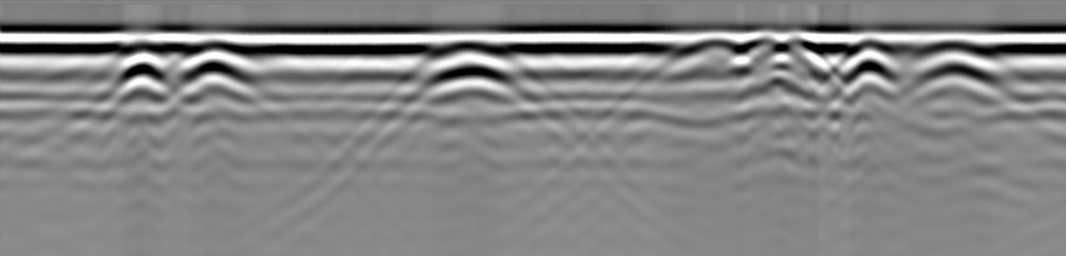pipe: (428, 39, 514, 82), (923, 39, 1003, 83), (184, 39, 256, 77), (846, 36, 901, 82), (742, 33, 823, 62), (121, 38, 172, 81)
